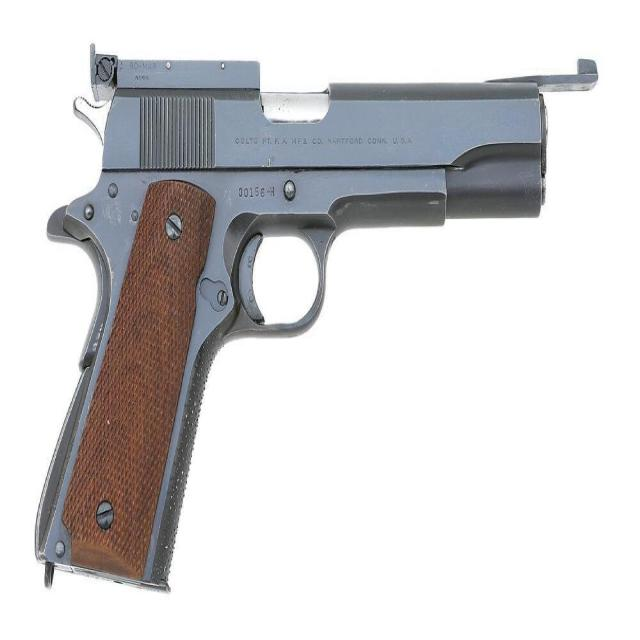gun: (33, 42, 598, 592)
